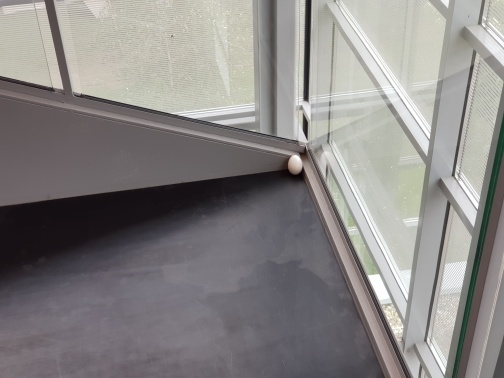egg: (286, 154, 304, 176)
